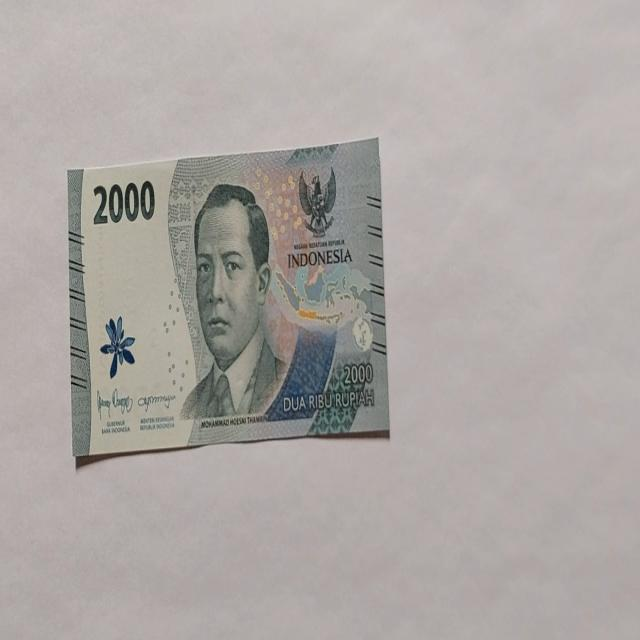dua ribu rupiah: (67, 136, 389, 462), (178, 182, 288, 422)
